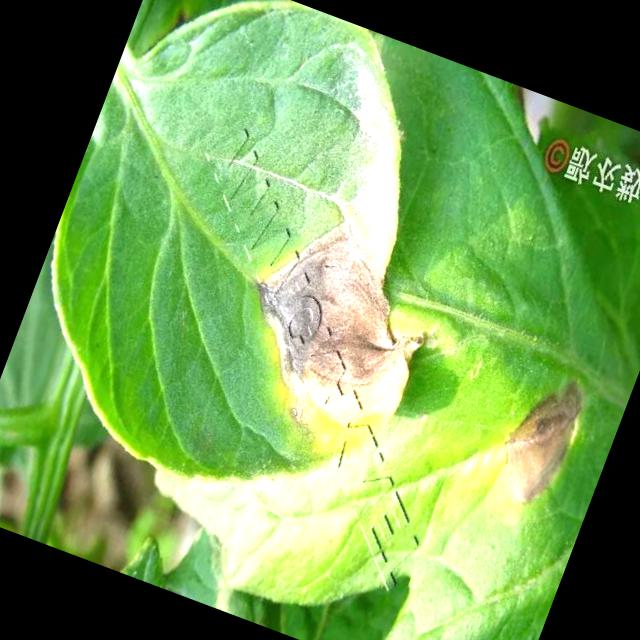Early_blight: (214, 204, 450, 463), (484, 361, 595, 516)
